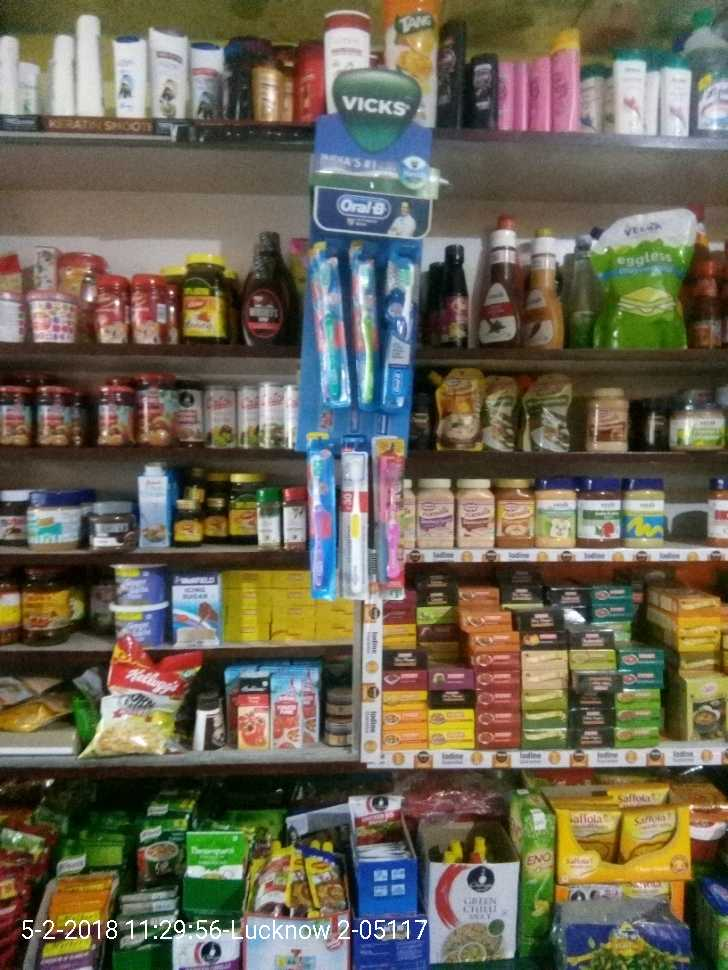oral: (345, 247, 386, 403), (314, 250, 354, 409), (334, 435, 372, 598), (374, 440, 411, 603), (303, 441, 339, 599)
pharmacy: (382, 249, 420, 413)
